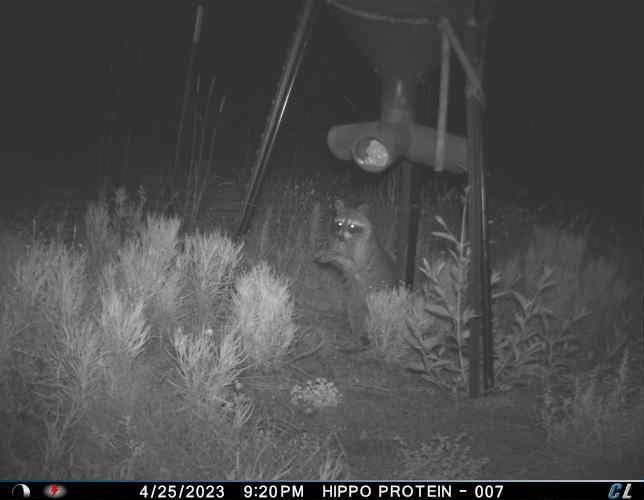Raccoon: (316, 197, 408, 351)
